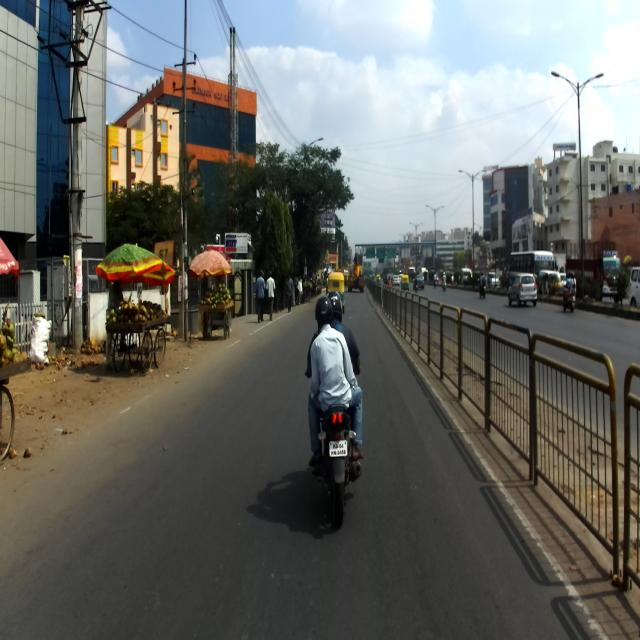motorcycle ahead at: (302, 400, 368, 515)
